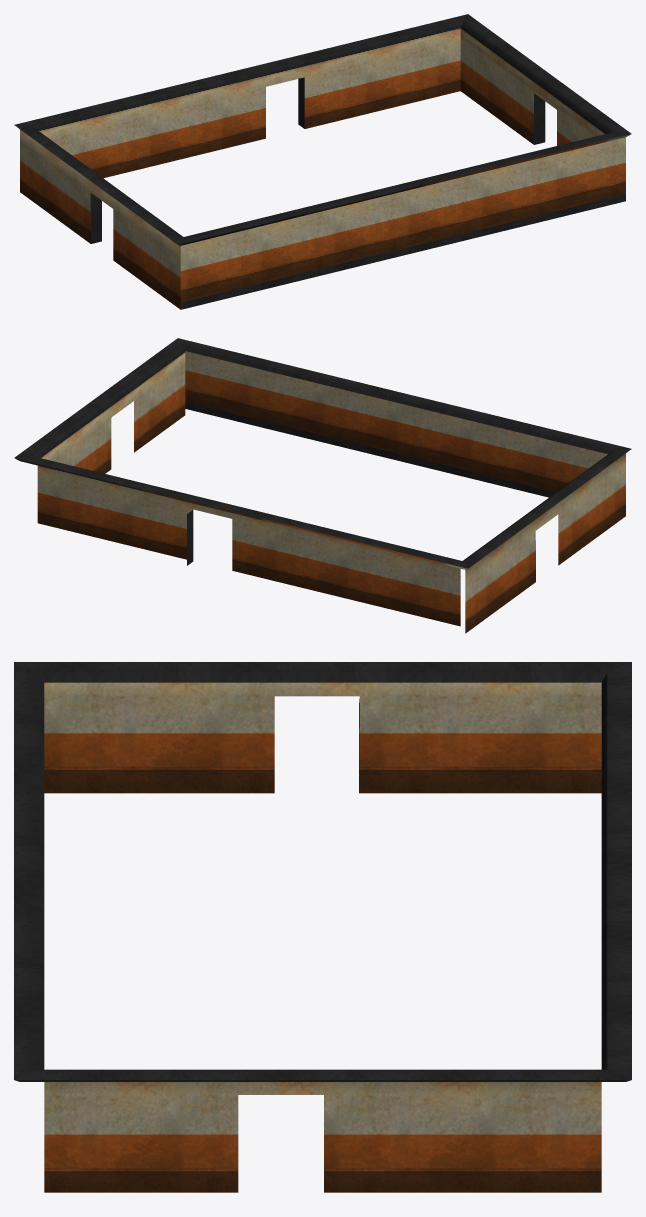
The model's file is wall01B.fbx.
3 views of the same model, one above another, from view 1: azimuth 30°, elevation 25°; view 2: azimuth 150°, elevation 25°; view 3: azimuth 270°, elevation 25° (orthographic). The views are drawn at different scales.
Parts seen in each view (by area): view 1: pCube2; view 2: pCube2; view 3: pCube2.
Part boxes in pixels (box(x1,y1,x2,y2)): pCube2: box(14, 14, 631, 309); pCube2: box(14, 338, 631, 633); pCube2: box(14, 662, 631, 1192).
Size of the model in its own units: 2041 by 289 by 1275.
